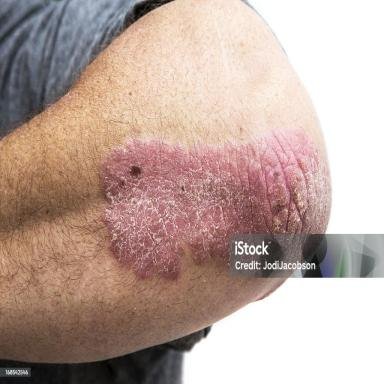Psoriasis: (98, 132, 331, 280)
